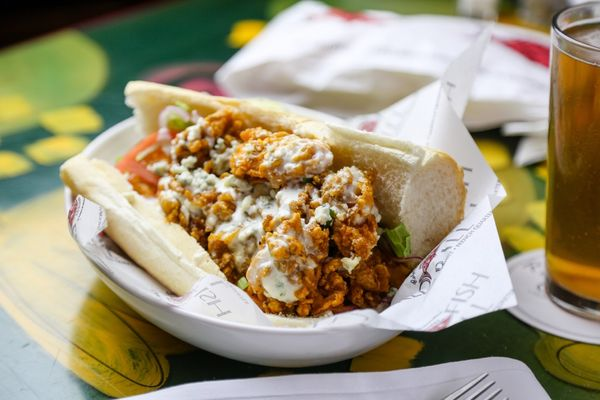pizza: (542, 1, 600, 315)
